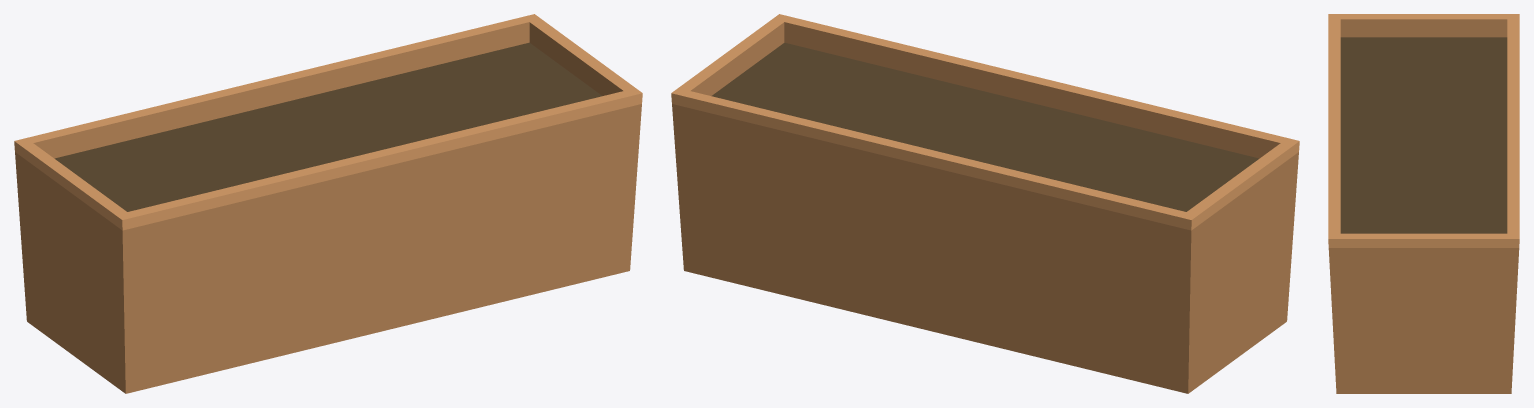
The model's file is italy_planter_square_2.dae.
The picture shows the model from 3 angles, left to right: view 1: azimuth 30°, elevation 25°; view 2: azimuth 150°, elevation 25°; view 3: azimuth 270°, elevation 25°; orthographic projection. The views are drawn at different scales.
Parts seen in each view (by area): view 1: Colmesh-1, italy_planter_square_1_a500; view 2: Colmesh-1, italy_planter_square_1_a500; view 3: Colmesh-1, italy_planter_square_1_a500.
Part boxes in pixels (bbox=[...]): Colmesh-1: bbox=[14, 14, 642, 393]; italy_planter_square_1_a500: bbox=[29, 14, 642, 374]; Colmesh-1: bbox=[671, 14, 1299, 393]; italy_planter_square_1_a500: bbox=[671, 15, 1281, 264]; Colmesh-1: bbox=[1328, 14, 1519, 393]; italy_planter_square_1_a500: bbox=[1335, 19, 1518, 391].
Bounding box in the file's own units: 1.56 × 0.5627 × 0.5141.
